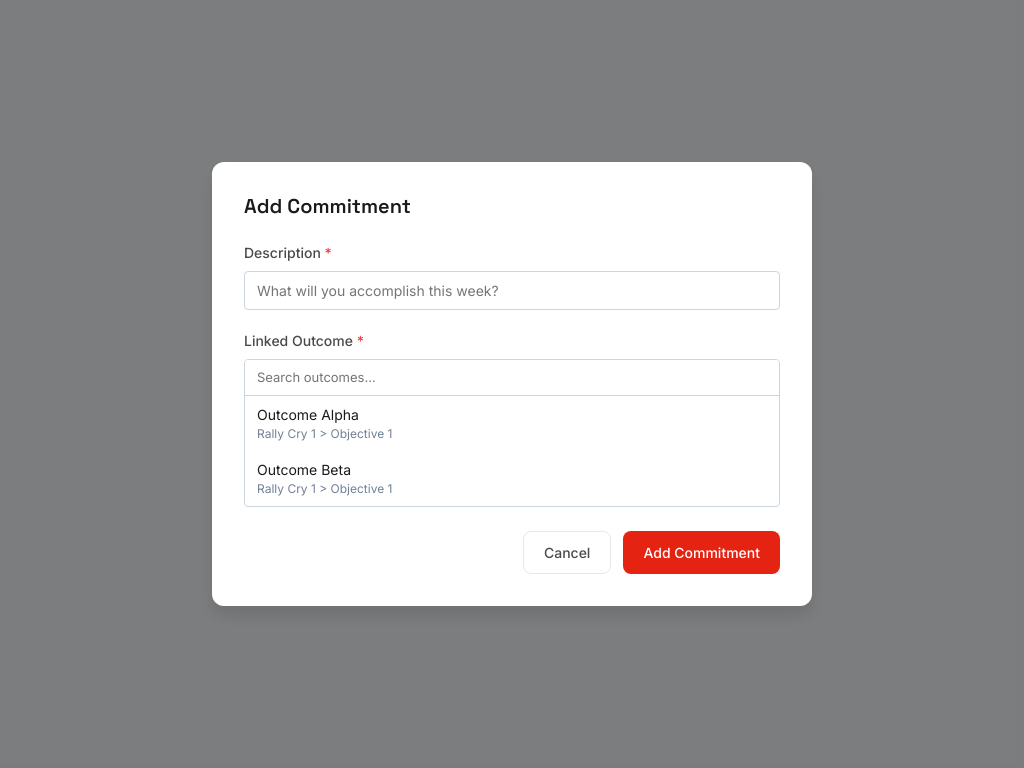
Scenario: CommitmentForm › shows validation errors when fields are empty
Click the button "Add Commitment".
click(702, 553)  # box [623,531,780,574]
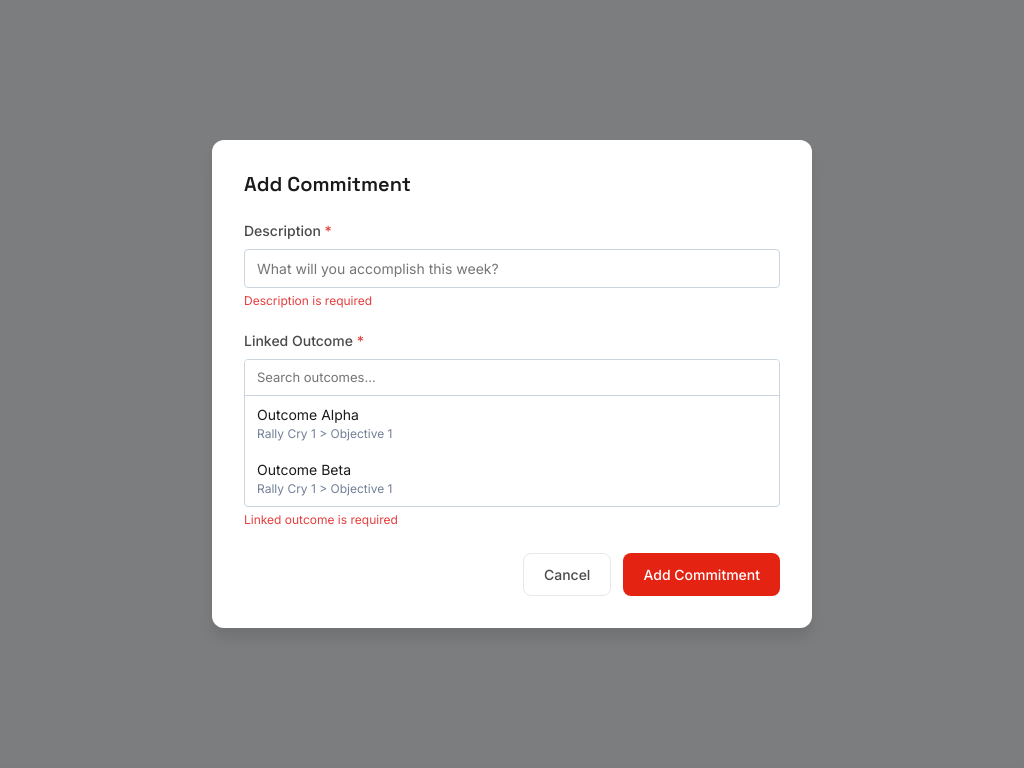
Expected: the text "Description is required" is shown, [244,293,372,308]
Expected: the text "Linked outcome is required" is shown, [244,512,398,527]
